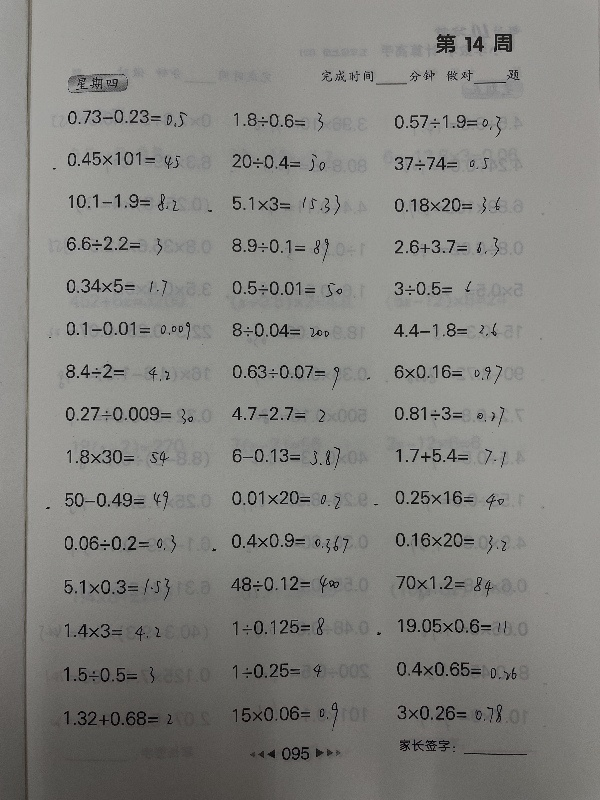equation: (61, 313, 207, 343), (60, 482, 170, 520), (226, 527, 370, 556), (390, 402, 508, 437), (231, 699, 340, 735), (63, 402, 198, 431), (59, 530, 184, 561), (391, 443, 511, 474), (228, 442, 344, 474), (392, 657, 520, 686), (227, 357, 342, 389), (227, 306, 332, 340), (387, 571, 502, 602), (59, 575, 173, 606), (389, 109, 503, 139), (228, 234, 332, 266), (62, 232, 166, 264), (228, 190, 344, 218), (61, 705, 177, 733), (393, 614, 517, 640), (392, 701, 507, 729), (390, 526, 509, 553), (62, 444, 172, 473), (62, 104, 188, 129), (389, 359, 505, 386), (61, 362, 177, 389), (64, 189, 182, 215), (390, 233, 503, 260), (61, 618, 164, 647), (63, 146, 182, 171), (390, 485, 507, 510), (226, 485, 343, 510), (228, 574, 344, 599), (390, 192, 503, 217), (228, 149, 329, 176), (61, 273, 170, 298), (227, 276, 345, 299), (230, 108, 327, 135), (62, 663, 159, 689), (390, 318, 500, 340), (227, 401, 332, 424), (230, 659, 326, 684), (229, 616, 328, 639), (390, 152, 492, 174), (393, 273, 476, 300)
